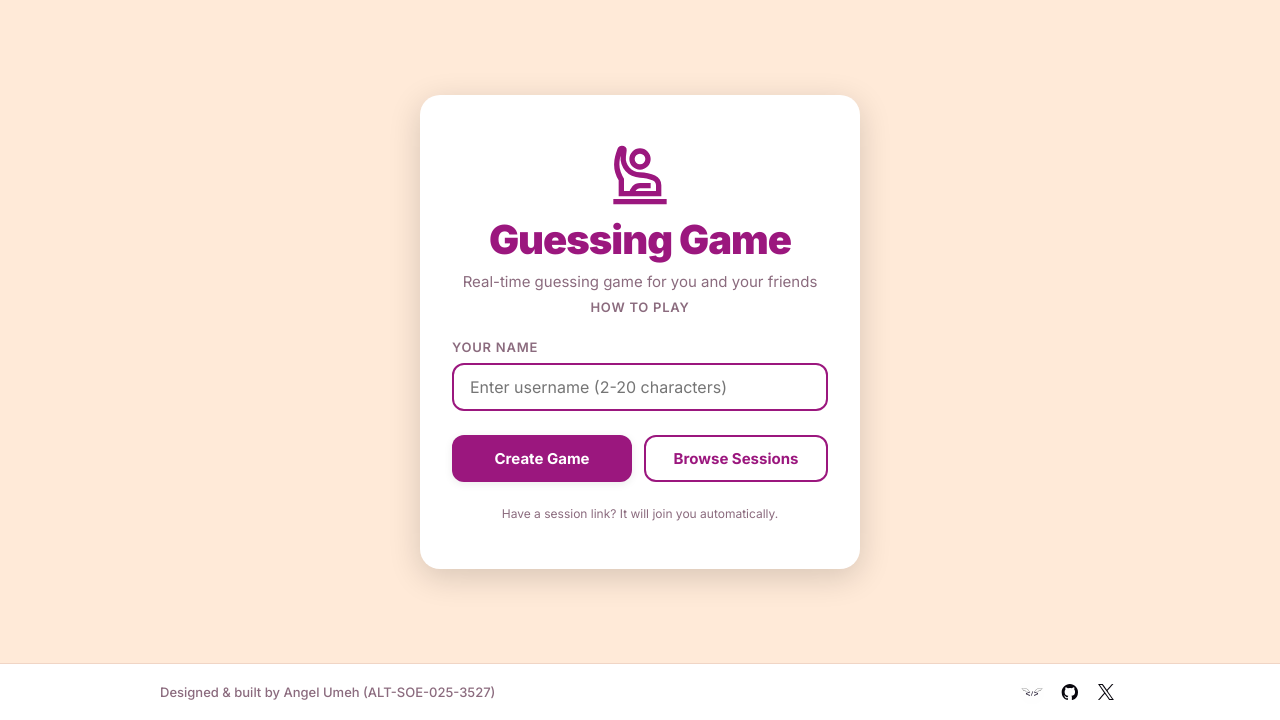
it: HomePage › shows error when username is too short on Create Game click
The image size is (1280, 720).
In the field with placeholder "Enter username (2-20 characters)": (640, 386) left=452, top=362, right=828, bottom=410, type "a"
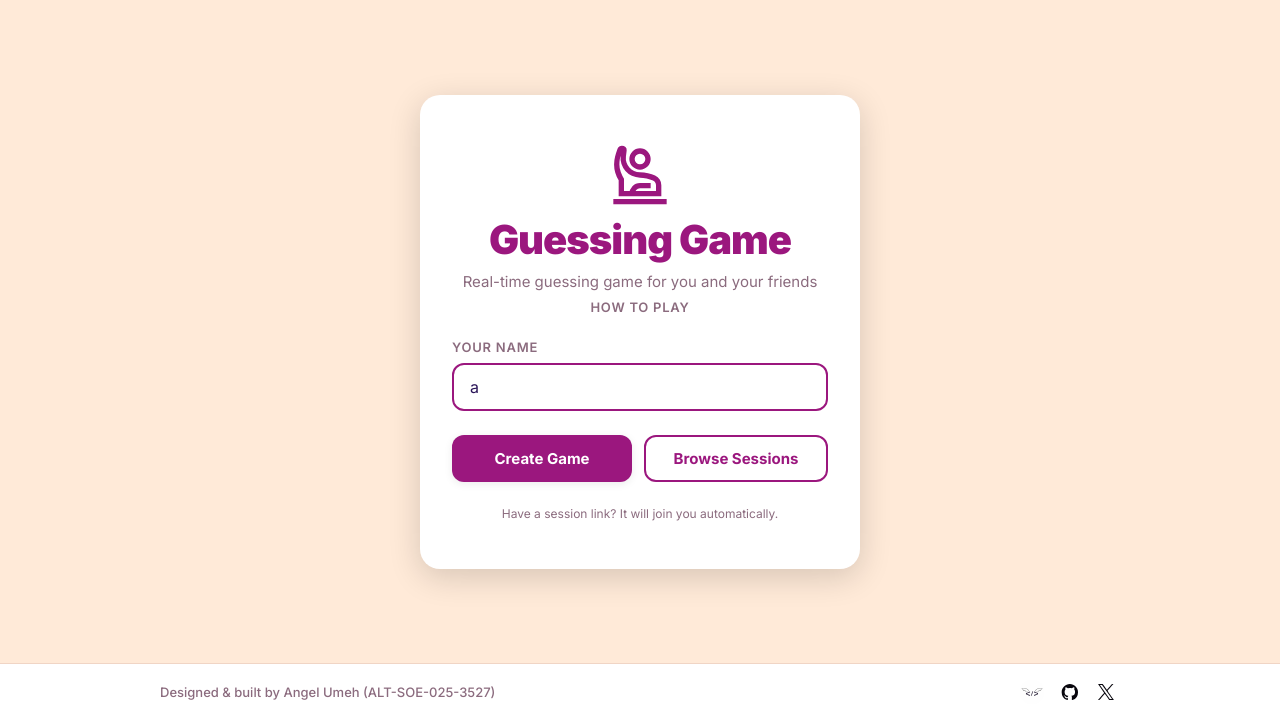
Click the button "Create Game": (542, 458) left=452, top=434, right=632, bottom=482
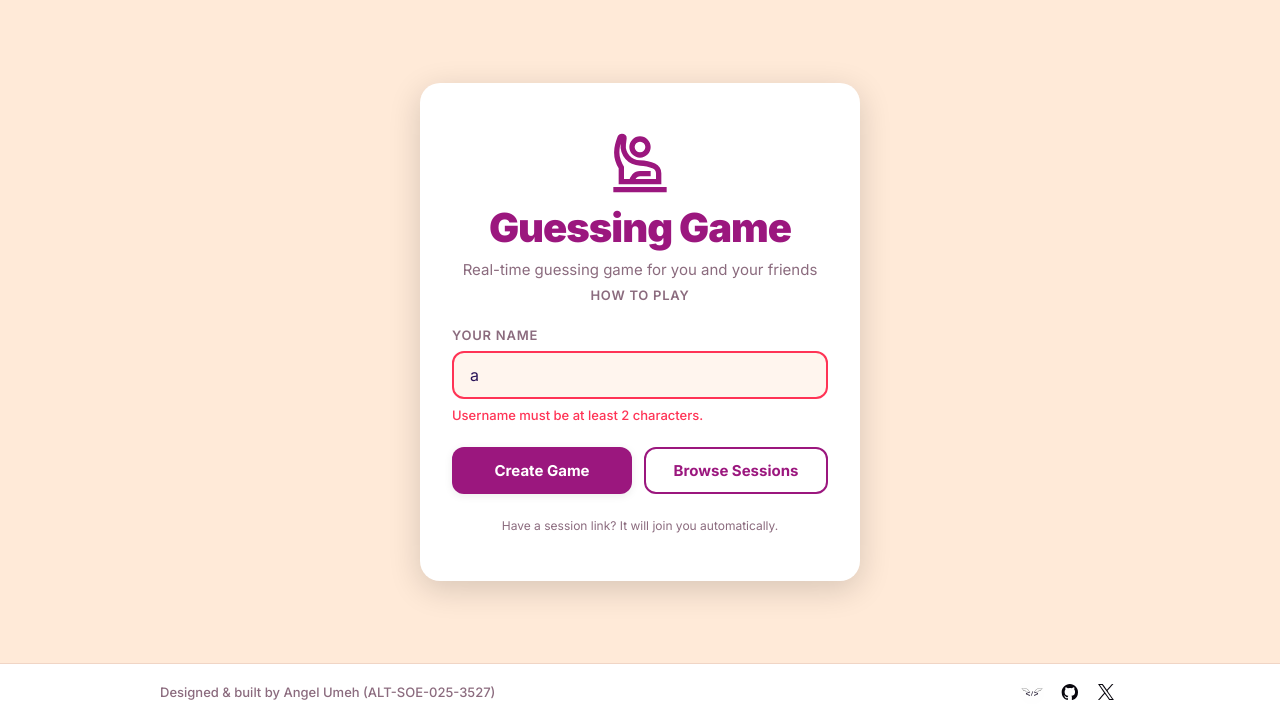
Result: the text "Username must be at least 2 characters." is shown at left=452, top=406, right=703, bottom=422
